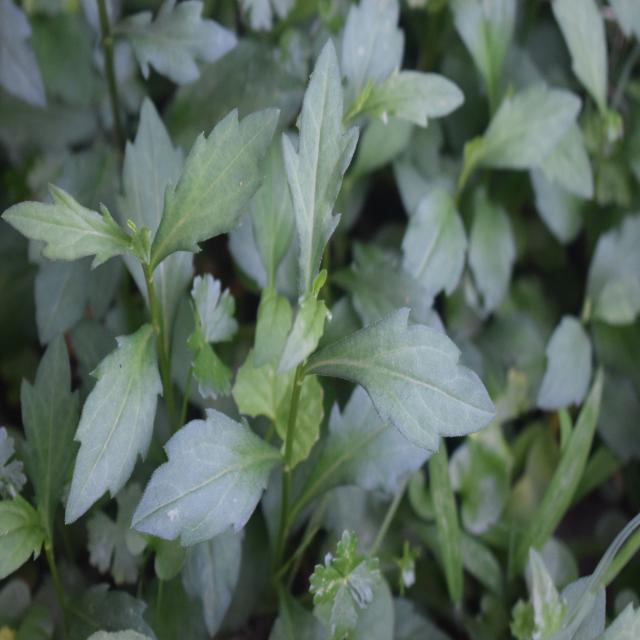Indian aster: (199, 66, 475, 537), (20, 92, 204, 480)
